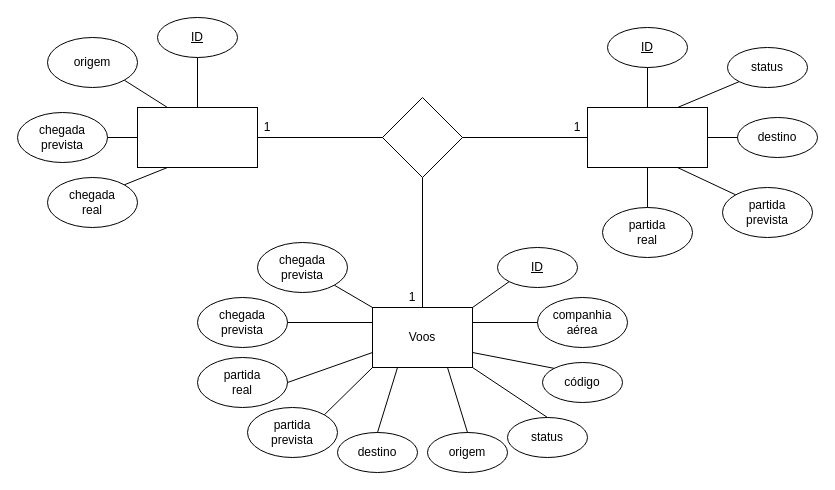
This 835x490 diagram has some shape labels left out. Here are the shapes that lost their labels. From the top down, the centre of each, then its label:
At (x=197, y=137): "Chegadas".
At (x=422, y=137): "Tem".
At (x=647, y=137): "Partidas".
